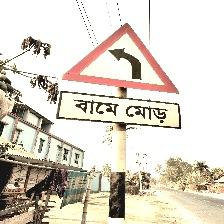Left-Turn: (56, 22, 182, 130)
